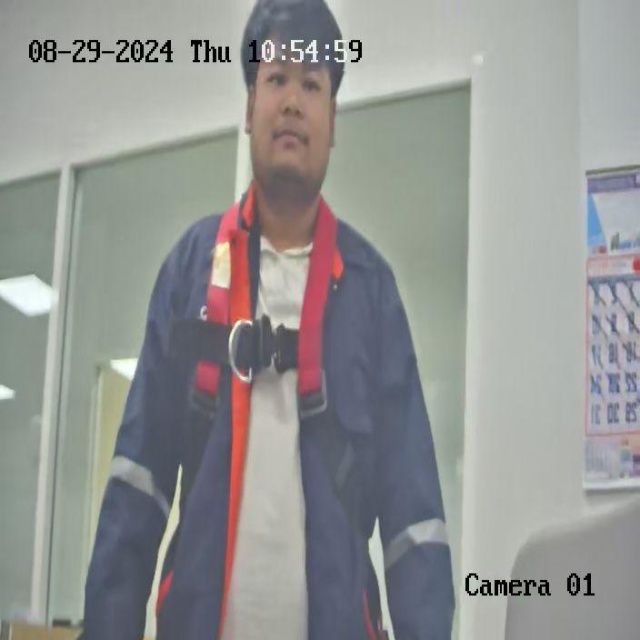Arnes_seguridad: (194, 189, 363, 535)
